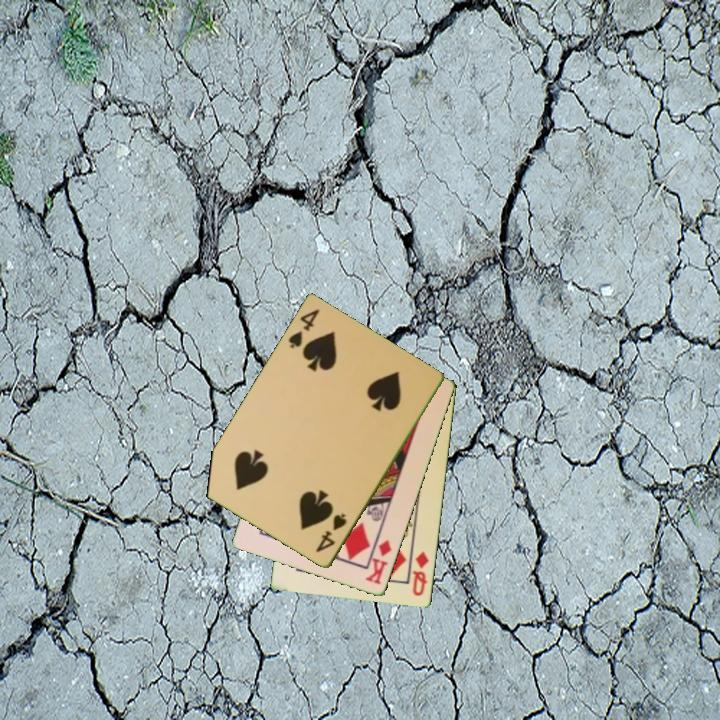4s: (312, 510, 350, 556), (285, 306, 323, 352)
Kd: (362, 536, 395, 588)
Qd: (409, 548, 432, 599)
